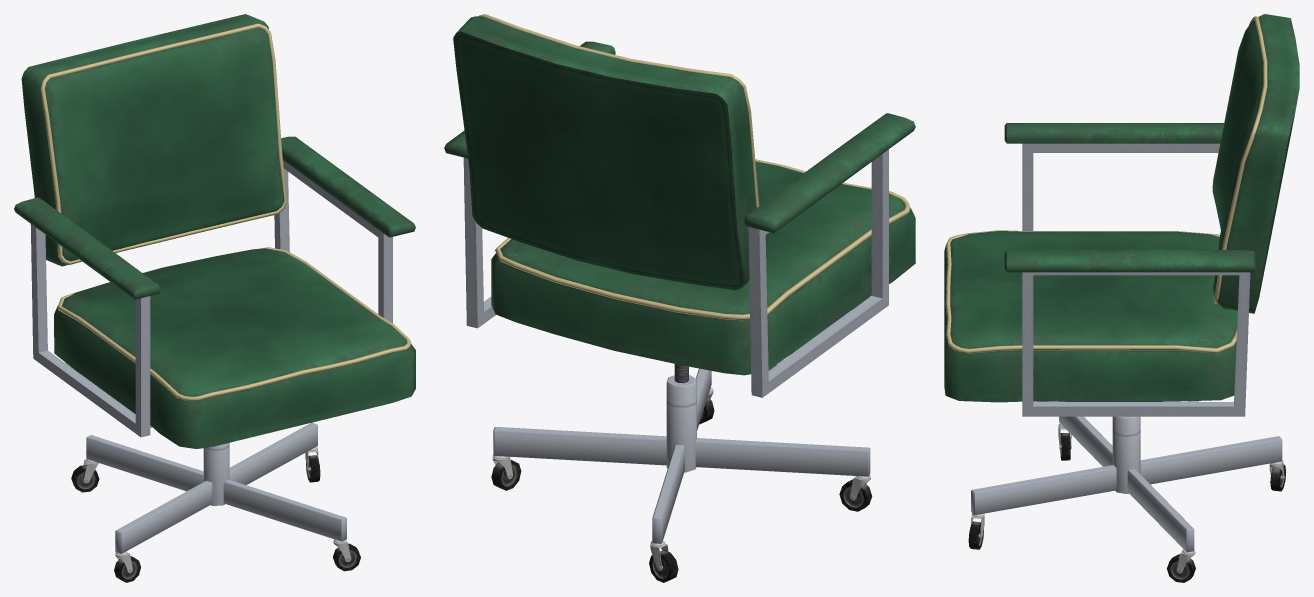
Rendered from ChairOffice.FBX.
The picture shows the model from 3 angles, left to right: view 1: azimuth 30°, elevation 25°; view 2: azimuth 150°, elevation 25°; view 3: azimuth 270°, elevation 25°; orthographic projection. The views are drawn at different scales.
Parts seen in each view (by area): view 1: ChairOffice_LOD0; view 2: ChairOffice_LOD0; view 3: ChairOffice_LOD0.
Part boxes in pixels (x1,y1,x2,y2): ChairOffice_LOD0: (14, 14, 415, 582); ChairOffice_LOD0: (444, 14, 915, 582); ChairOffice_LOD0: (944, 14, 1299, 582).
Size of what is drawn, in the model's own units: 60.6 by 89.1 by 63.79.
